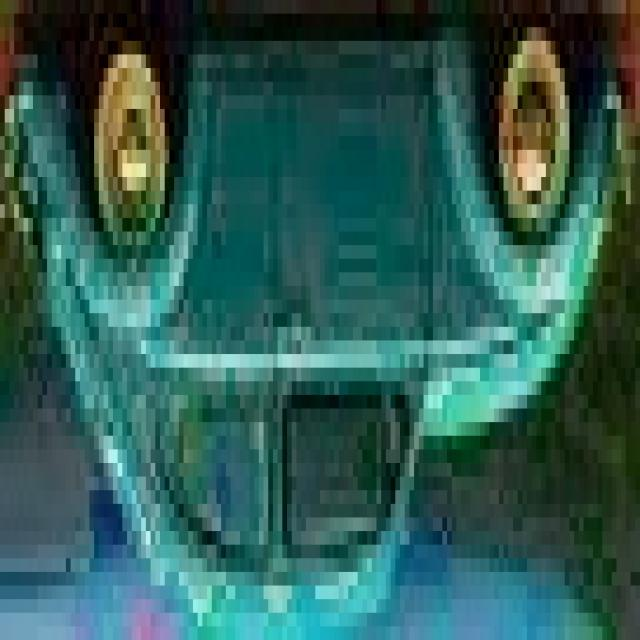green: (4, 0, 621, 627)
